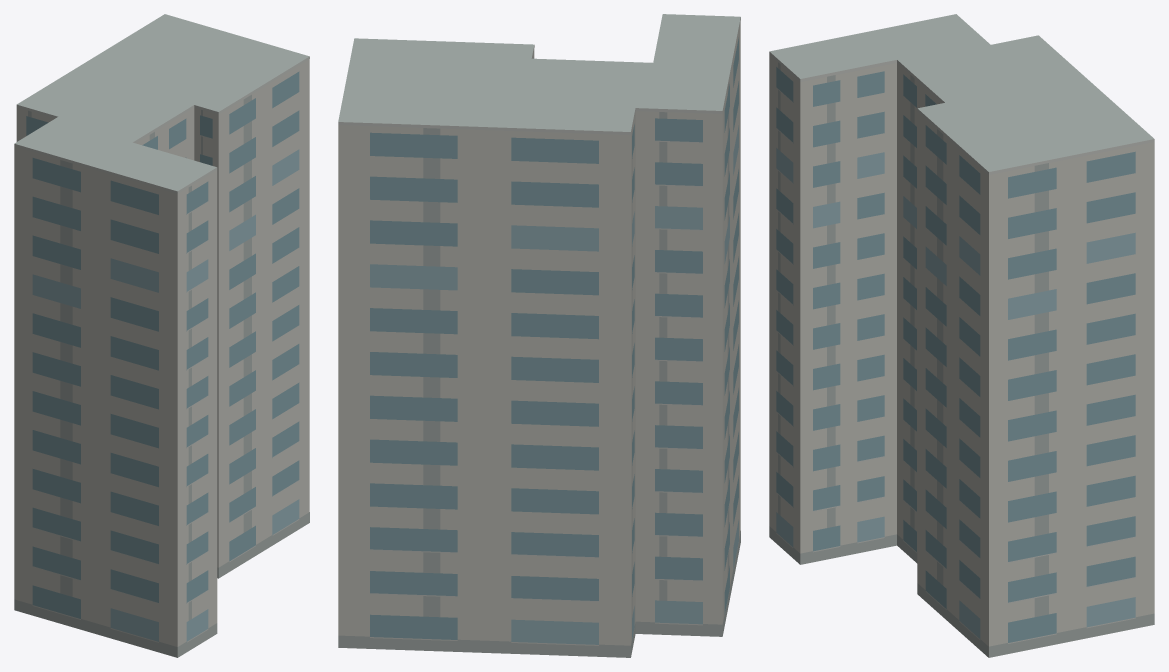
File: residential-dce5931c-c3e7-4bb1-9a25-413b25a75ad6.glb
3 renders of one model, left to right at view 1: azimuth 30°, elevation 25°; view 2: azimuth 150°, elevation 25°; view 3: azimuth 270°, elevation 25°, orthographic. The views are drawn at different scales.
Visible parts, largest first — view 1: residential-dce5931c-c3e7-4bb1-9a25-413b25a75ad6.tmp; view 2: residential-dce5931c-c3e7-4bb1-9a25-413b25a75ad6.tmp; view 3: residential-dce5931c-c3e7-4bb1-9a25-413b25a75ad6.tmp.
Boxes of the visible parts, bbox=[...] form: residential-dce5931c-c3e7-4bb1-9a25-413b25a75ad6.tmp: bbox=[14, 14, 309, 657]; residential-dce5931c-c3e7-4bb1-9a25-413b25a75ad6.tmp: bbox=[338, 14, 740, 657]; residential-dce5931c-c3e7-4bb1-9a25-413b25a75ad6.tmp: bbox=[769, 14, 1154, 657].
Bounding box in the file's own units: 28.63 × 41 × 29.48.
